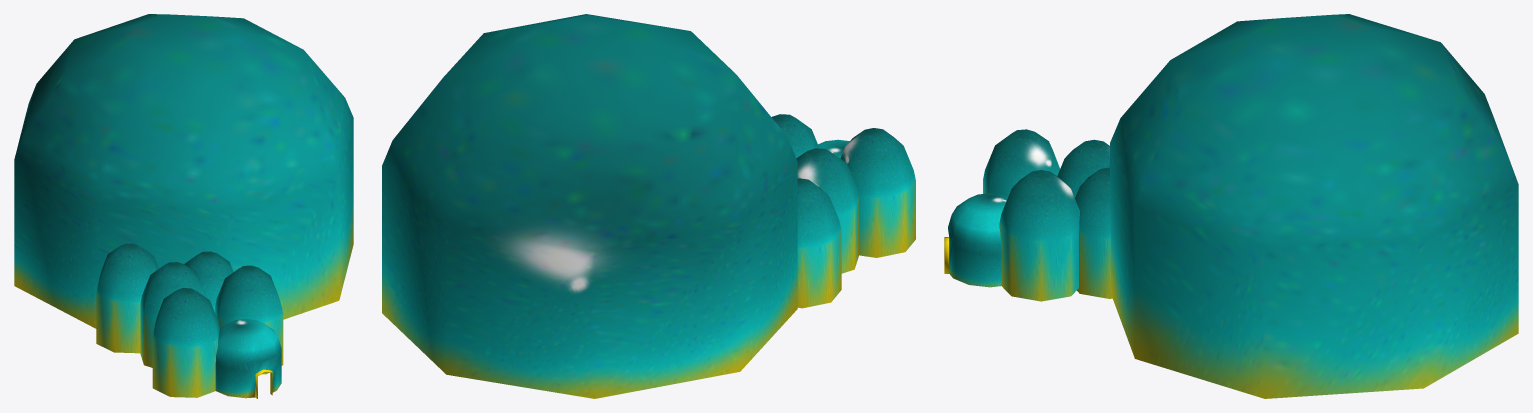
File: HousingStand.fbx
The picture shows the model from 3 angles, left to right: view 1: azimuth 30°, elevation 25°; view 2: azimuth 150°, elevation 25°; view 3: azimuth 270°, elevation 25°; orthographic projection. The views are drawn at different scales.
Visible parts, largest first — view 1: main; view 2: main; view 3: main.
Part boxes in pixels (bbox=[...]): main: bbox=[14, 14, 353, 398]; main: bbox=[382, 14, 915, 398]; main: bbox=[944, 14, 1518, 398].
Size of the model in its own units: 24019 by 17803 by 33645.
